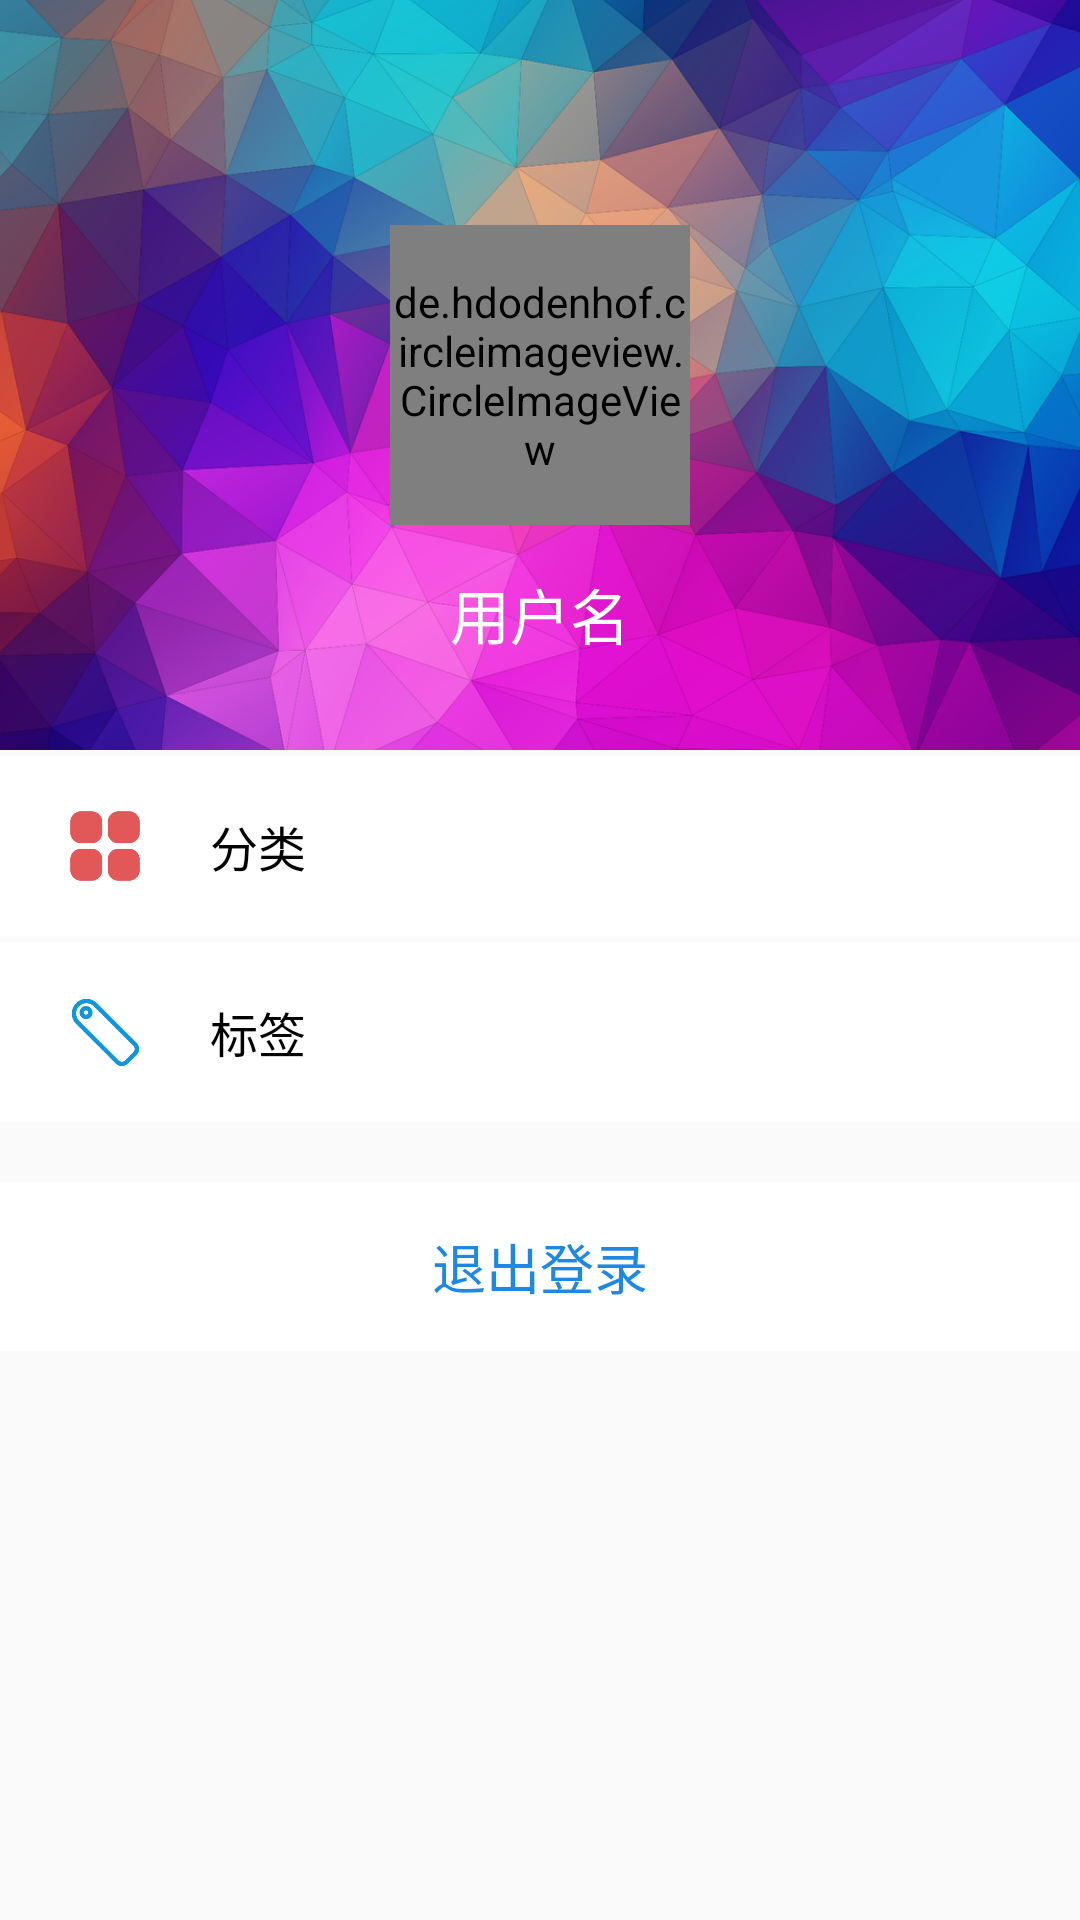

Where icons sit on this 1080px x 1920px app screen, as (x1, y1, x2, y2):
category: (70, 811, 140, 881)
tag: (72, 999, 139, 1066)
